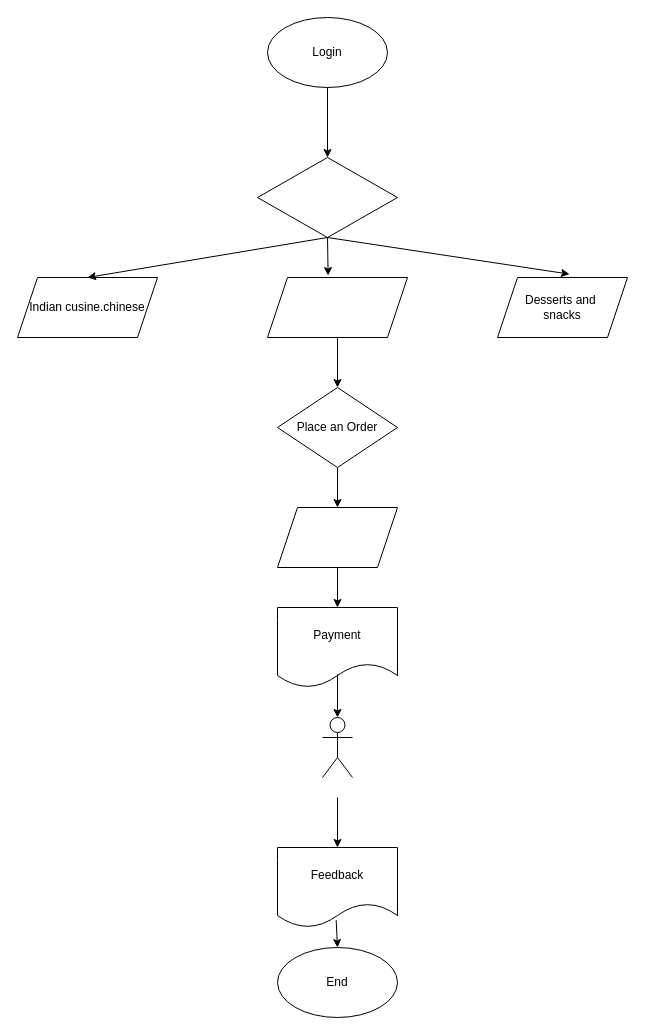
Image size: 645x1035. Some labels were removed from this diagram. Each missing label, with the centre of its shape:
Address: [337,537]
Delivery: [337,747]
Search Credentials: [327,197]
Select restaurant: [337,307]
